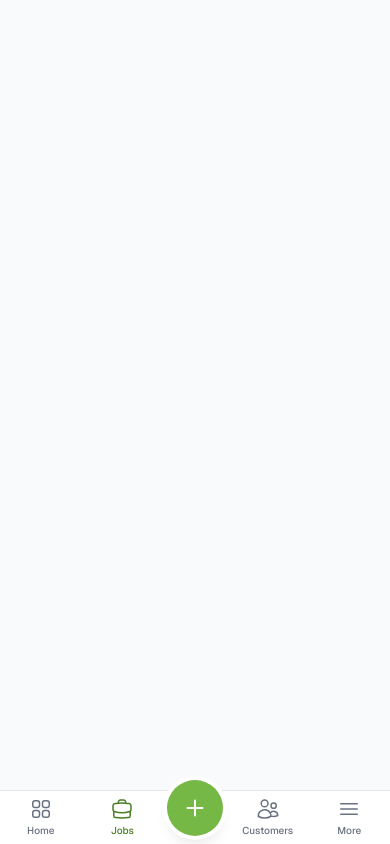
Scenario: BottomNav — sheets › + New opens the create menu (Booking / Add Customer — no Invoice)
The width and height of the screenshot is (390, 844).
Click the button named "Create new": x=195, y=808 [167,780,223,836]
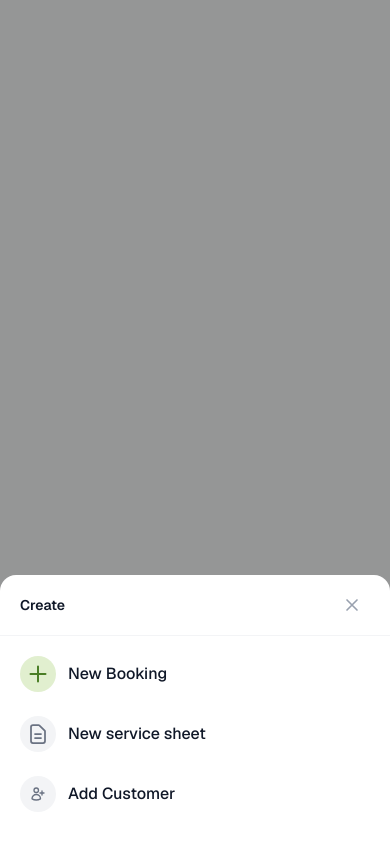
Now the button "New Booking" is shown, box [0,644,389,704]
